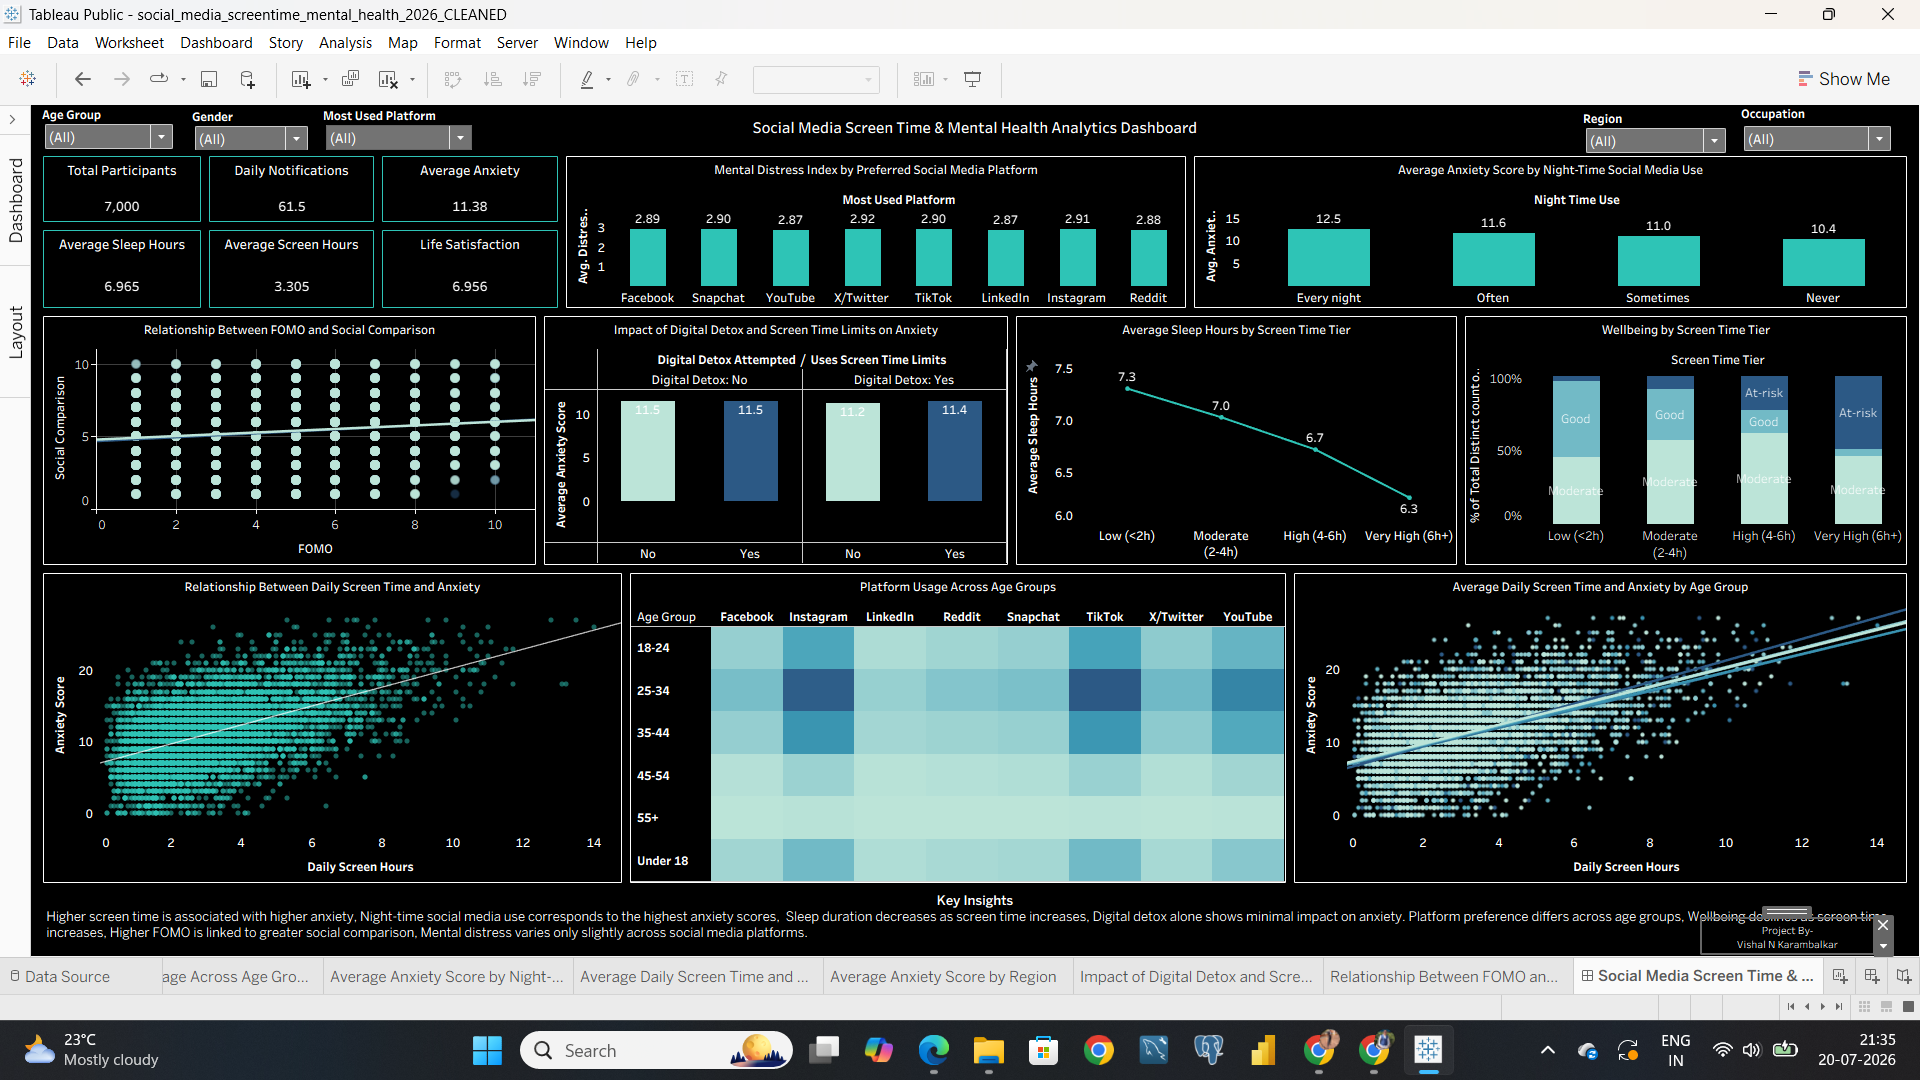

This screenshot's page, from the dashboard's own definition file:
{"tool":"tableau","page":{"name":"Social Media Screen Time & Mental Health Analytics Dashboard","canvas":[1000,1000],"units":"permille","ordinal":0},"visuals":[{"type":"filter","title":"Mental Distress Index by Preferred Social Media Platform","param":"[federated.1sczvrt1bvneyr1fstjg40nrgwpp].[none:occupation:nk]","box":[905.7,0,80.8,57.6]},{"type":"filter","title":"Mental Distress Index by Preferred Social Media Platform","param":"[federated.1sczvrt1bvneyr1fstjg40nrgwpp].[none:age_group:nk]","box":[5.8,1.2,71,51.7]},{"type":"filter","title":"Mental Distress Index by Preferred Social Media Platform","param":"[federated.1sczvrt1bvneyr1fstjg40nrgwpp].[none:most_used_platform:nk]","box":[154.7,2.4,80.3,51.7]},{"type":"filter","title":"Mental Distress Index by Preferred Social Media Platform","param":"[federated.1sczvrt1bvneyr1fstjg40nrgwpp].[none:gender:nk]","box":[85.5,3.5,63.3,49.4]},{"type":"filter","title":"Mental Distress Index by Preferred Social Media Platform","param":"[federated.1sczvrt1bvneyr1fstjg40nrgwpp].[none:region:nk]","box":[821.9,5.9,77.3,50.5]},{"type":"text","box":[4.2,9.4,991.5,34.1]},{"type":"worksheet","title":"Total Participants","mark":"Automatic","box":[4.2,55.2,87.9,86.8]},{"type":"worksheet","title":"Daily Notifications","mark":"Automatic","box":[92.1,55.2,91.5,86.8]},{"type":"worksheet","title":"Average Anxiety","mark":"Automatic","box":[183.6,55.2,97.6,86.8]},{"type":"worksheet","title":"Mental Distress Index by Preferred Social Media Platform","mark":"Automatic","rows":["distress_index"],"cols":["most_used_platform"],"box":[281.2,55.2,332.8,188.2]},{"type":"worksheet","title":"Average Anxiety Score by Night-Time Social Media Use","mark":"Automatic","rows":["anxiety_score_0to27"],"cols":["night_time_use"],"box":[614,55.2,381.8,188.2]},{"type":"worksheet","title":"Average Sleep Hours","mark":"Automatic","box":[4.2,142.1,87.9,101.3]},{"type":"worksheet","title":"Average Screen Hours","mark":"Automatic","box":[92.1,142.1,91.5,101.3]},{"type":"worksheet","title":"Life Satisfaction","mark":"Automatic","box":[183.6,142.1,97.6,101.3]},{"type":"worksheet","title":"Relationship Between FOMO and Social Comparison","mark":"Circle","rows":["social_comparison_1to10"],"cols":["fomo_1to10"],"box":[4.2,243.4,265.5,301.8]},{"type":"worksheet","title":"Impact of Digital Detox and Screen Time Limits on Anxiety","mark":"Bar","rows":["anxiety_score_0to27"],"cols":["digital_detox_attempted","uses_screen_time_limits"],"box":[269.8,243.4,249.8,301.8]},{"type":"worksheet","title":"Average Sleep Hours by Screen Time Tier","mark":"Line","rows":["avg_sleep_hours"],"cols":["screen_time_tier"],"box":[519.5,243.4,238.1,301.8]},{"type":"worksheet","title":"Wellbeing by Screen Time Tier","mark":"Bar","cols":["screen_time_tier"],"box":[757.6,243.4,238.1,301.8]},{"type":"worksheet","title":"Relationship Between Daily Screen Time and Anxiety","mark":"Circle","rows":["anxiety_score_0to27"],"cols":["daily_screen_hours"],"box":[4.2,545.2,310.7,373.2]},{"type":"worksheet","title":"Platform Usage Across Age Groups","mark":"Automatic","rows":["age_group"],"cols":["most_used_platform"],"box":[314.9,545.2,351.8,373.2]},{"type":"worksheet","title":"Average Daily Screen Time and Anxiety by Age Group","mark":"Circle","rows":["anxiety_score_0to27"],"cols":["daily_screen_hours"],"box":[666.8,545.2,329,373.2]},{"type":"text","box":[4.2,918.4,991.5,72.2]},{"type":"text","box":[885.1,956.5,90.6,42.3]}]}

Visuals, with their boxes on the dashboard's canvas, which has no fixed pixel size, in thousandths of its width and height (x1, y1, x2, y2). These are canvas units, not pixel positions in the 1920x1080 screenshot, which may show the page scaled, cropped or inside an application window:
"Mental Distress Index by Preferred Social Media Platform" filter: <box>906,0,986,58</box>
"Mental Distress Index by Preferred Social Media Platform" filter: <box>6,1,77,53</box>
"Mental Distress Index by Preferred Social Media Platform" filter: <box>155,2,235,54</box>
"Mental Distress Index by Preferred Social Media Platform" filter: <box>86,4,149,53</box>
"Mental Distress Index by Preferred Social Media Platform" filter: <box>822,6,899,56</box>
text: <box>4,9,996,44</box>
"Total Participants" worksheet: <box>4,55,92,142</box>
"Daily Notifications" worksheet: <box>92,55,184,142</box>
"Average Anxiety" worksheet: <box>184,55,281,142</box>
"Mental Distress Index by Preferred Social Media Platform" worksheet: <box>281,55,614,243</box>
"Average Anxiety Score by Night-Time Social Media Use" worksheet: <box>614,55,996,243</box>
"Average Sleep Hours" worksheet: <box>4,142,92,243</box>
"Average Screen Hours" worksheet: <box>92,142,184,243</box>
"Life Satisfaction" worksheet: <box>184,142,281,243</box>
"Relationship Between FOMO and Social Comparison" worksheet (Circle marks): <box>4,243,270,545</box>
"Impact of Digital Detox and Screen Time Limits on Anxiety" worksheet (Bar marks): <box>270,243,520,545</box>
"Average Sleep Hours by Screen Time Tier" worksheet (Line marks): <box>520,243,758,545</box>
"Wellbeing by Screen Time Tier" worksheet (Bar marks): <box>758,243,996,545</box>
"Relationship Between Daily Screen Time and Anxiety" worksheet (Circle marks): <box>4,545,315,918</box>
"Platform Usage Across Age Groups" worksheet: <box>315,545,667,918</box>
"Average Daily Screen Time and Anxiety by Age Group" worksheet (Circle marks): <box>667,545,996,918</box>
text: <box>4,918,996,991</box>
text: <box>885,956,976,999</box>
